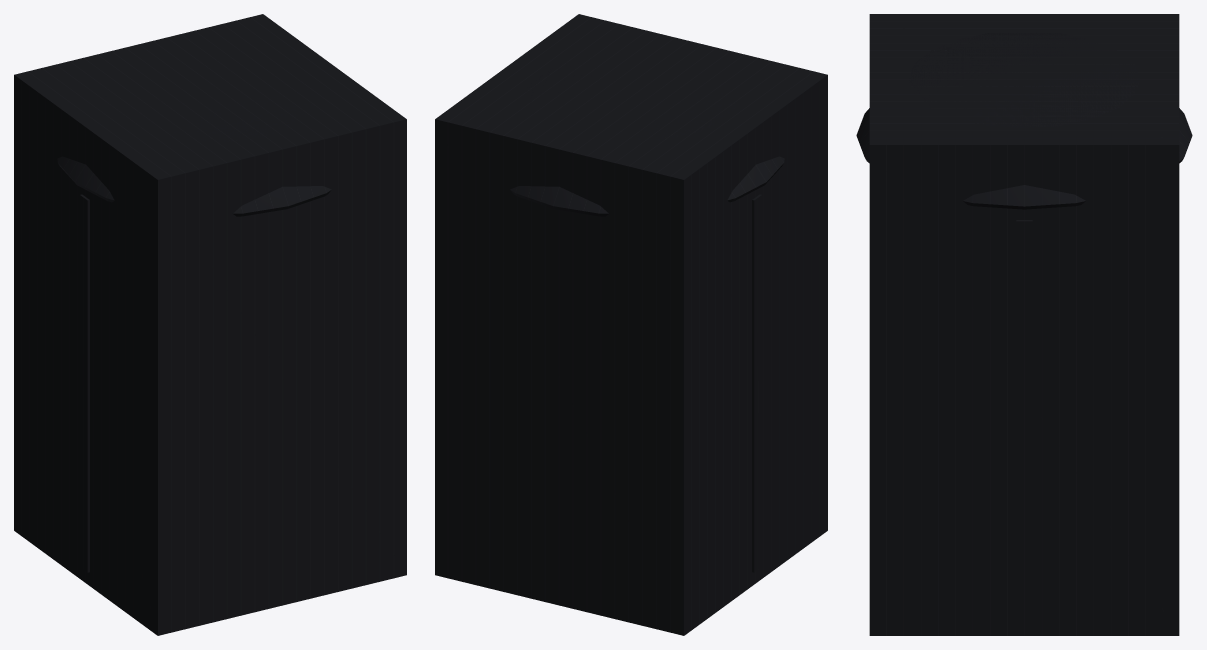
The model's file is kit_trash_can.glb.
3 renders of one model, left to right at view 1: azimuth 30°, elevation 25°; view 2: azimuth 150°, elevation 25°; view 3: azimuth 270°, elevation 25°, orthographic. The views are drawn at different scales.
Visible parts, largest first — view 1: tc_COL, tc_rib5, tc_lid; view 2: tc_COL, tc_rib5, tc_lid; view 3: tc_COL, tc_lid, tc_rib0.
Boxes of the visible parts, left/top/right/bottom form: tc_COL: left=14, top=14, right=406, bottom=635; tc_rib5: left=80, top=194, right=89, bottom=572; tc_lid: left=57, top=71, right=331, bottom=216; tc_COL: left=435, top=14, right=827, bottom=635; tc_rib5: left=752, top=194, right=761, bottom=572; tc_lid: left=510, top=70, right=784, bottom=216; tc_COL: left=869, top=14, right=1179, bottom=635; tc_lid: left=856, top=32, right=1192, bottom=209; tc_rib0: left=1016, top=220, right=1032, bottom=621.
Bounding box in the file's own units: 0.6079 × 0.98 × 0.6079.
Materials: 2 (2 with a texture image).
